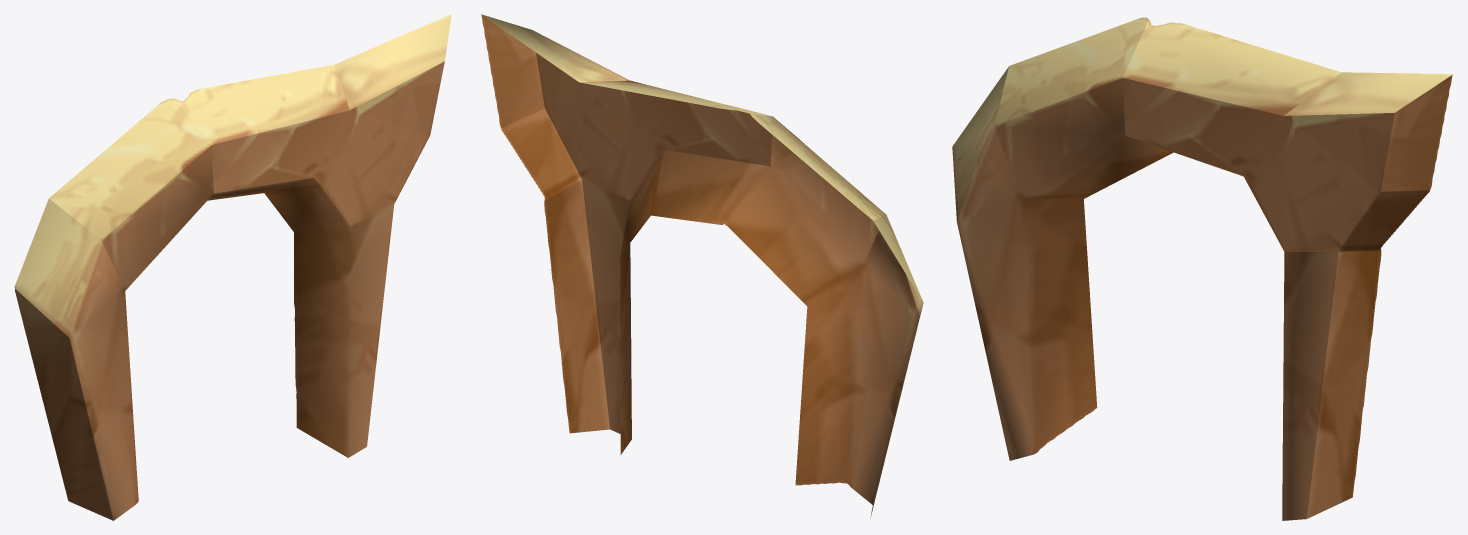
The model's file is Chapter1Scene1Model26.FBX.
3 views of the same model, side by side, from view 1: azimuth 30°, elevation 25°; view 2: azimuth 150°, elevation 25°; view 3: azimuth 330°, elevation 25° (orthographic). The views are drawn at different scales.
Visible parts, largest first — view 1: Chapter1Scene1Model26; view 2: Chapter1Scene1Model26; view 3: Chapter1Scene1Model26.
Boxes of the visible parts, <box> form: Chapter1Scene1Model26: <box>14,14,451,520</box>; Chapter1Scene1Model26: <box>481,14,923,518</box>; Chapter1Scene1Model26: <box>952,17,1452,520</box>.
Bounding box in the file's own units: 106 × 13.97 × 94.77.
